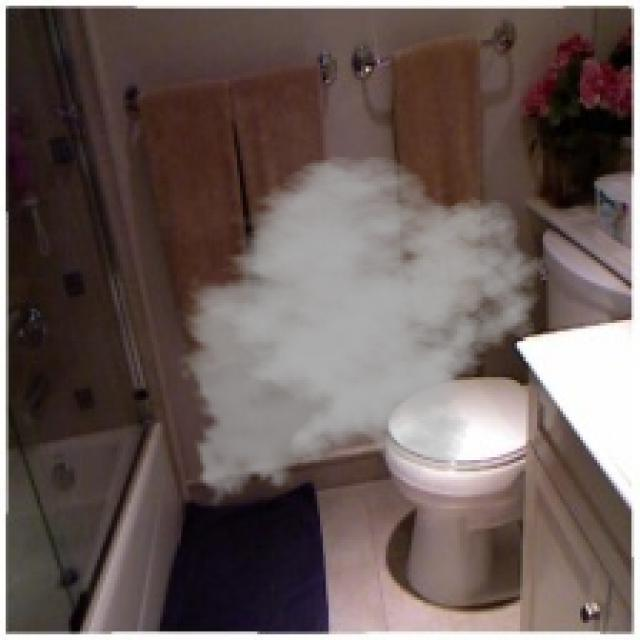Smoke: (174, 154, 552, 512)
